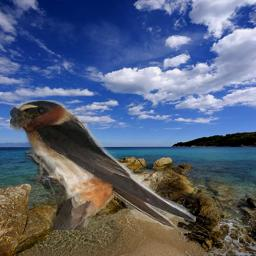Swallow: (10, 100, 196, 230)
